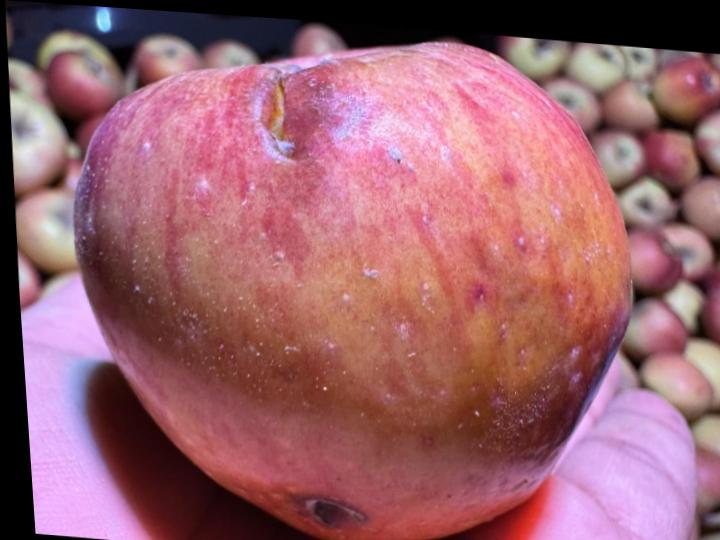apple: (74, 43, 630, 540)
surface_damage: (253, 68, 317, 166), (290, 494, 371, 534)
